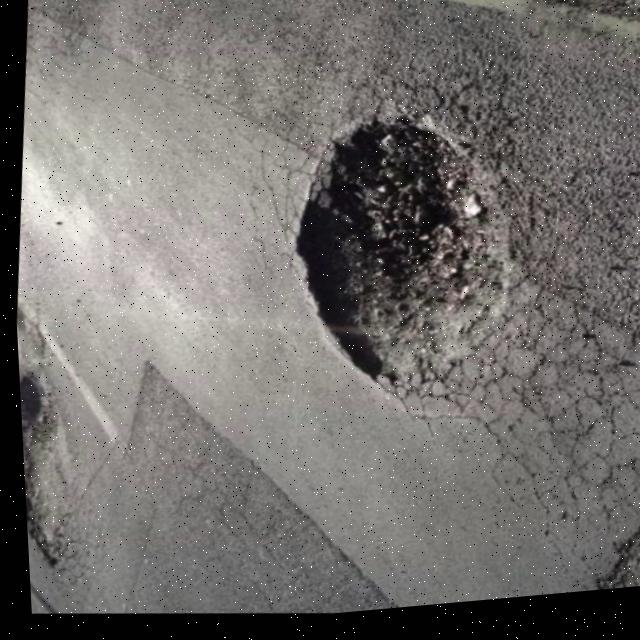Pothole: (202, 13, 558, 440), (16, 390, 117, 593)
